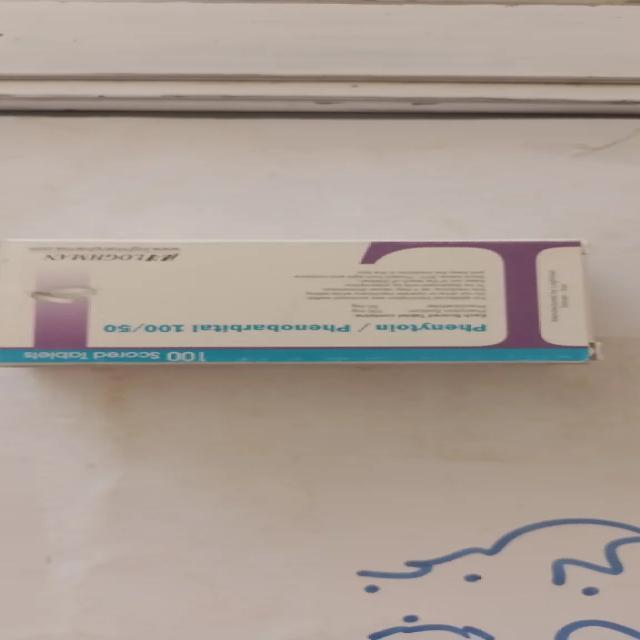drug-name: (96, 321, 491, 335)
